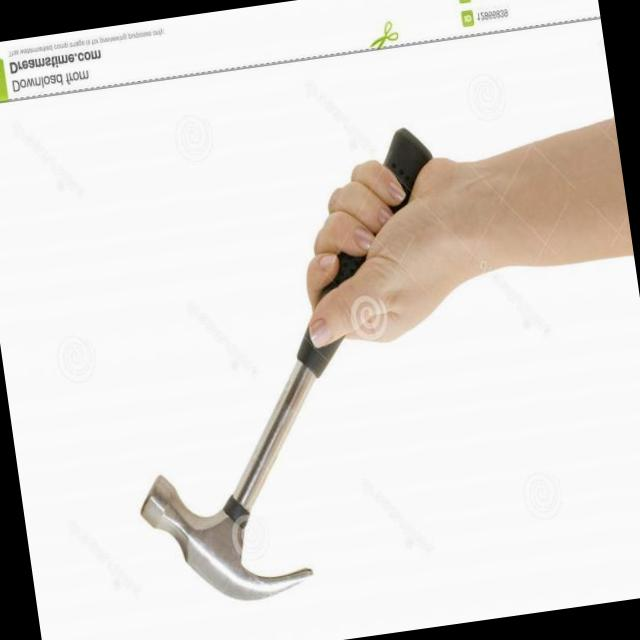hammer: (141, 330, 343, 599), (385, 129, 432, 212), (321, 253, 366, 297)
